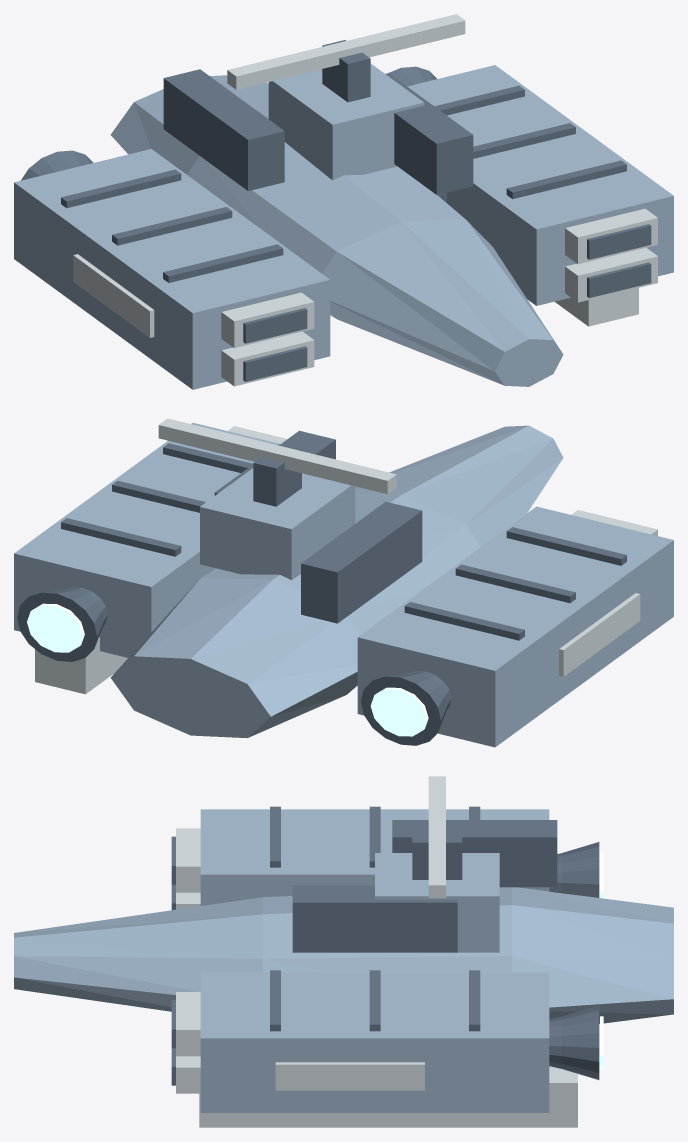
The picture shows the model from 3 angles, top to bottom: view 1: azimuth 30°, elevation 25°; view 2: azimuth 150°, elevation 25°; view 3: azimuth 270°, elevation 25°; orthographic projection. The views are drawn at different scales.
Bounding box in the file's own units: 8.03 × 3.46 × 9.6.
